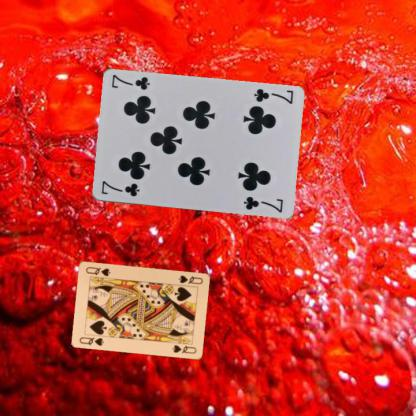7c: (251, 86, 294, 106), (98, 178, 140, 198)
Qs: (176, 272, 204, 286), (77, 334, 105, 347)
